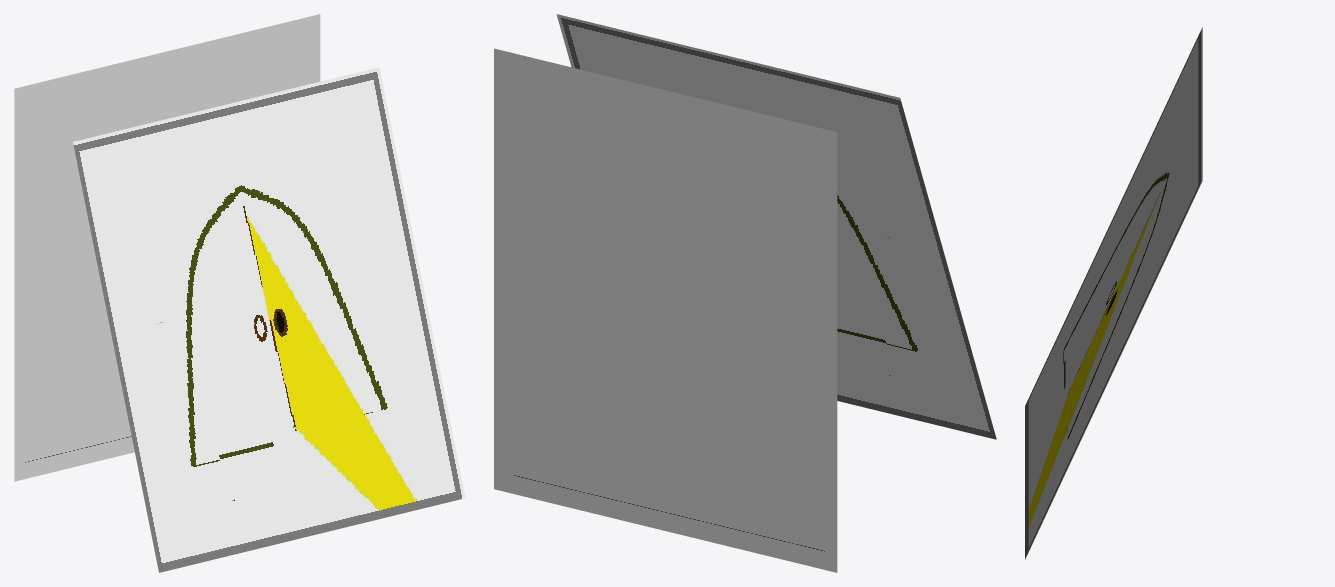
File: Distinguish heaven.glb
The picture shows the model from 3 angles, left to right: view 1: azimuth 30°, elevation 25°; view 2: azimuth 150°, elevation 25°; view 3: azimuth 270°, elevation 25°; orthographic projection. The views are drawn at different scales.
Visible parts, largest first — view 1: mesh_id29, mesh_id1; view 2: mesh_id1, mesh_id29; view 3: mesh_id29.
Boxes of the visible parts, x1=… form: mesh_id29: x1=73, y1=67, x2=465, y2=572; mesh_id1: x1=14, y1=14, x2=320, y2=481; mesh_id1: x1=494, y1=48, x2=837, y2=572; mesh_id29: x1=556, y1=14, x2=996, y2=439; mesh_id29: x1=1025, y1=27, x2=1202, y2=559.
Size of the model in its own units: 0.531 by 0.648 by 0.4287.
Materials: 2 (2 with a texture image).
